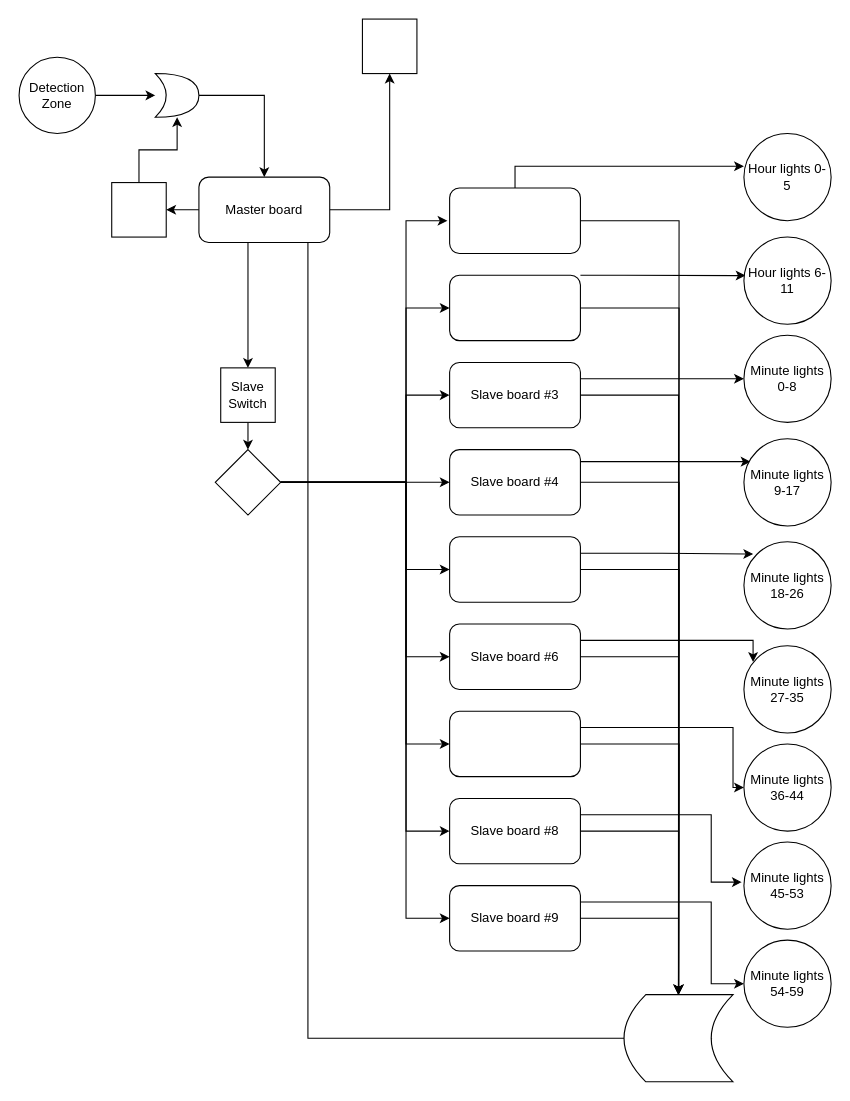
This 850x1101 diagram has some shape labels left out. Here are the shapes that lost their labels. From the top down, the box of each, then its label:
(361, 18, 417, 74): Time Set Switch
(154, 72, 199, 117): Or
(111, 181, 166, 237): Hold Switch
(449, 187, 580, 253): Slave board #1
(449, 274, 580, 341): Slave board #2
(214, 449, 281, 515): Relay
(449, 536, 580, 602): Slave board #5
(449, 710, 580, 777): Slave board #7
(623, 994, 733, 1082): Databank
